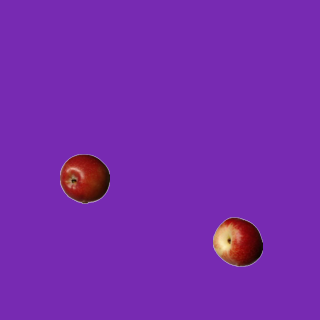Apple Braeburn: (59, 153, 109, 203)
Nectarine: (212, 216, 262, 266)
